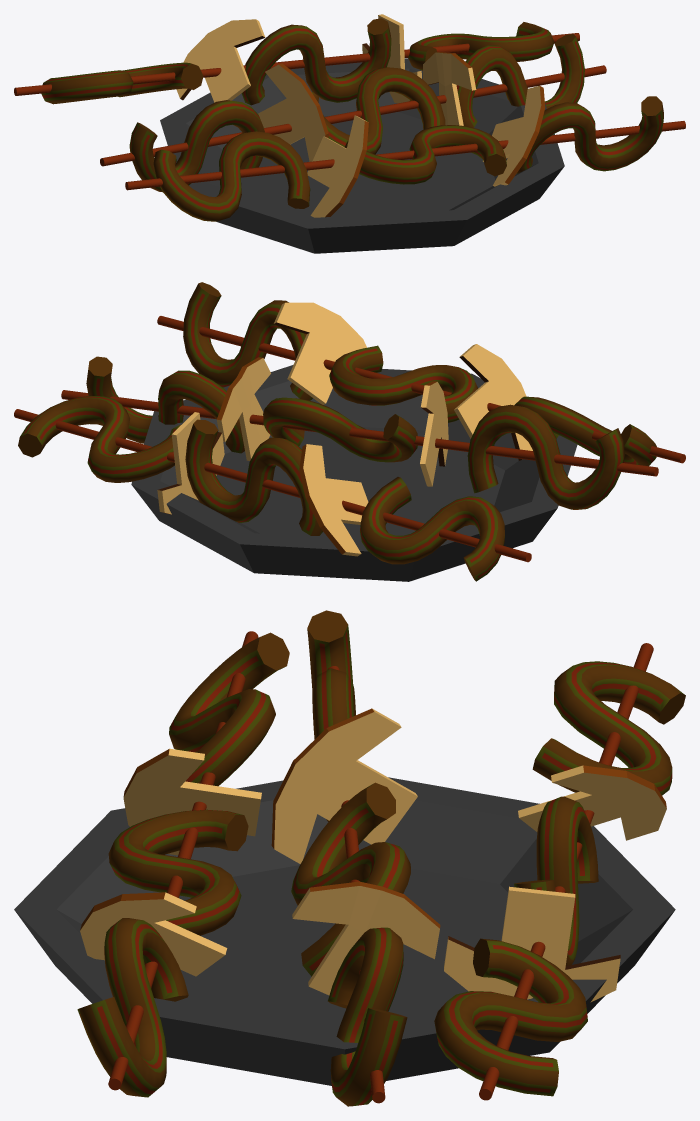
File: smoked snake and mushroom kabob.fbx
3 renders of one model, top to bottom at view 1: azimuth 30°, elevation 25°; view 2: azimuth 150°, elevation 25°; view 3: azimuth 270°, elevation 25°, orthographic. The views are drawn at different scales.
Visible parts, largest first — view 1: Plane.003; view 2: Plane.003; view 3: Plane.003.
Part boxes in pixels (x1,y1,x2,y2): Plane.003: (14,14,685,253); Plane.003: (14,282,685,581); Plane.003: (14,610,685,1106).
Bounding box in the file's own units: 438 × 109 × 306.
